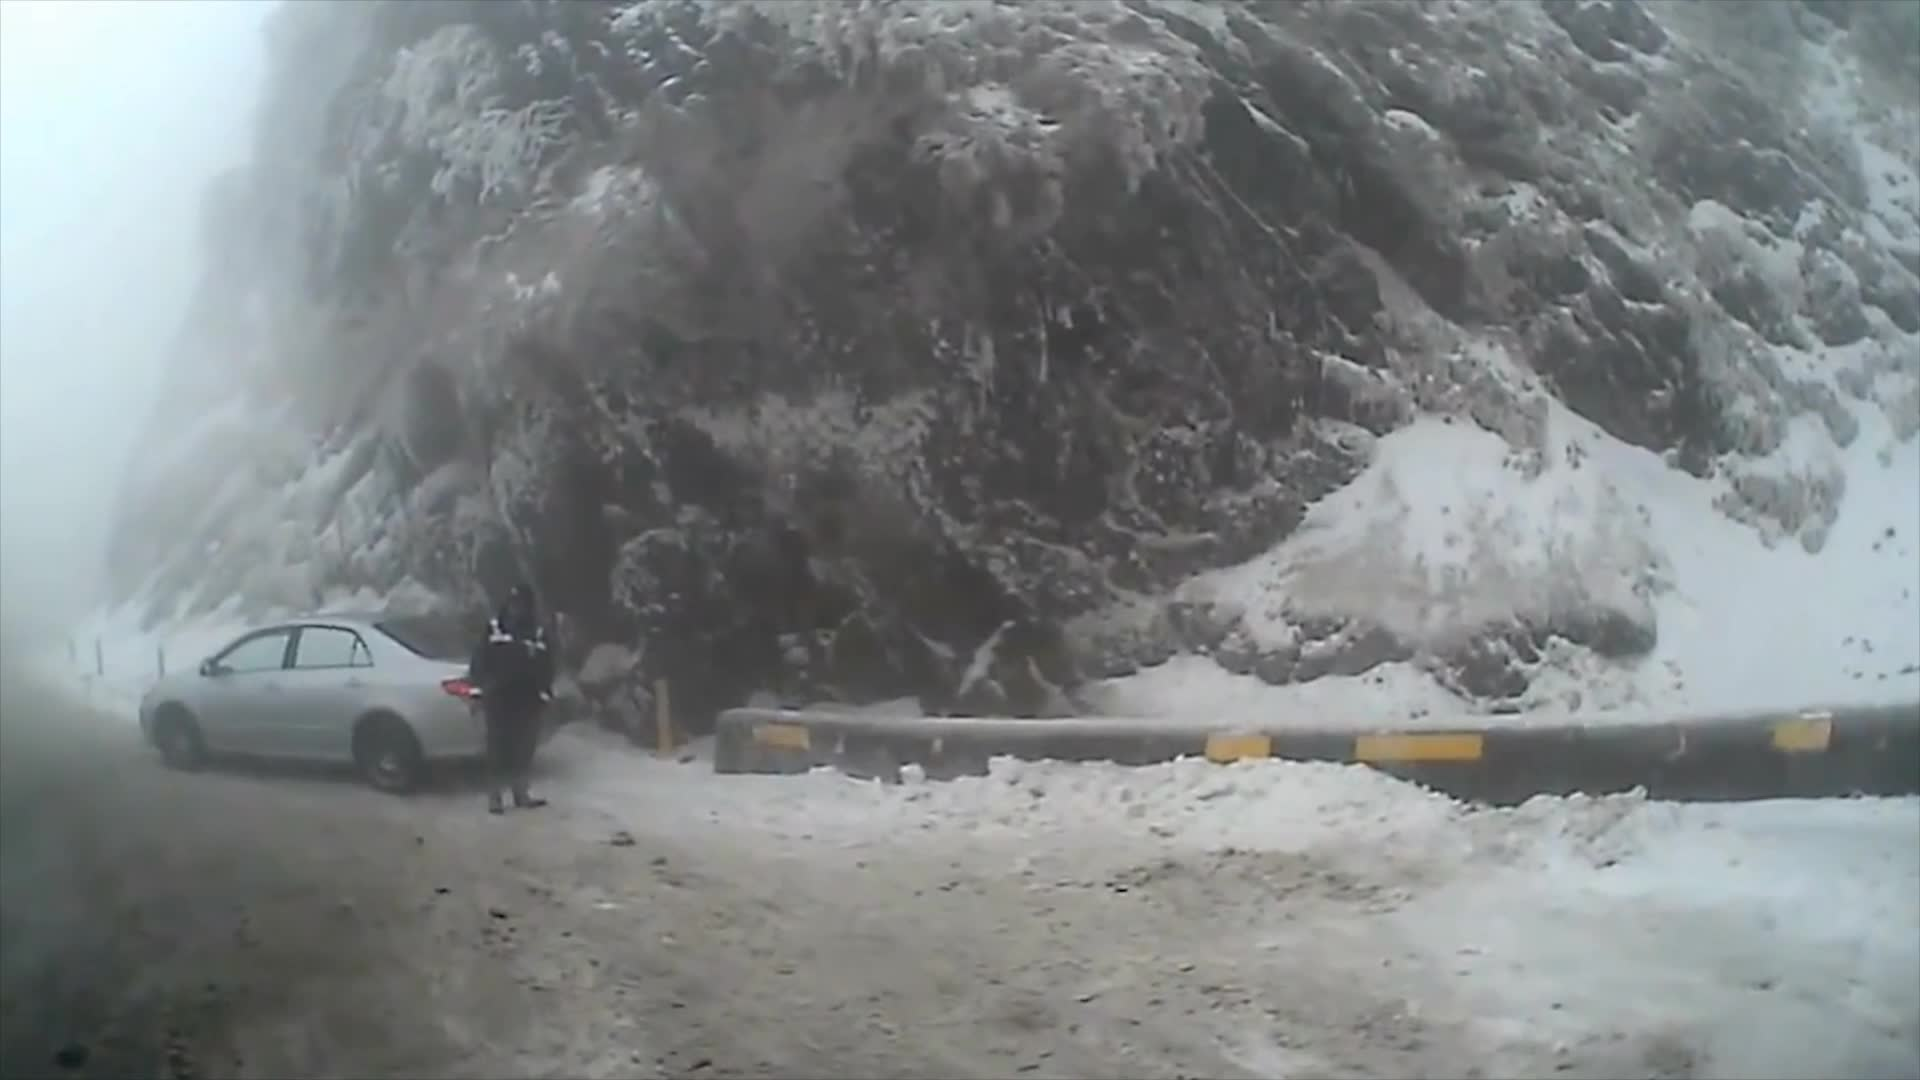pedestrian: (470, 576, 554, 809)
vehicle: (134, 606, 557, 795)
